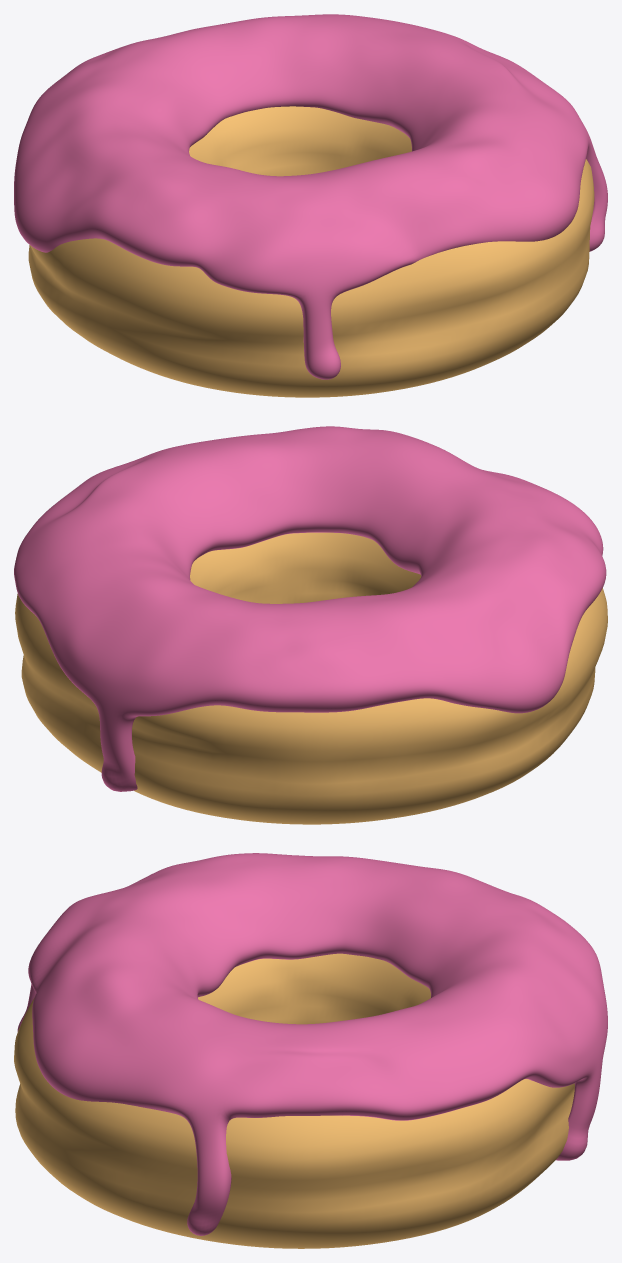
The model's file is donut.fbx.
The picture shows the model from 3 angles, top to bottom: view 1: azimuth 30°, elevation 25°; view 2: azimuth 150°, elevation 25°; view 3: azimuth 270°, elevation 25°; orthographic projection. The views are drawn at different scales.
Visible parts, largest first — view 1: icing, donut; view 2: icing, donut; view 3: icing, donut.
Boxes of the visible parts, bbox=[...] form: icing: bbox=[14, 14, 607, 379]; donut: bbox=[28, 106, 594, 397]; icing: bbox=[14, 426, 606, 791]; donut: bbox=[15, 532, 607, 824]; icing: bbox=[17, 853, 607, 1235]; donut: bbox=[14, 953, 574, 1248].
Bounding box in the file's own units: 15.03 × 5.87 × 14.51.
